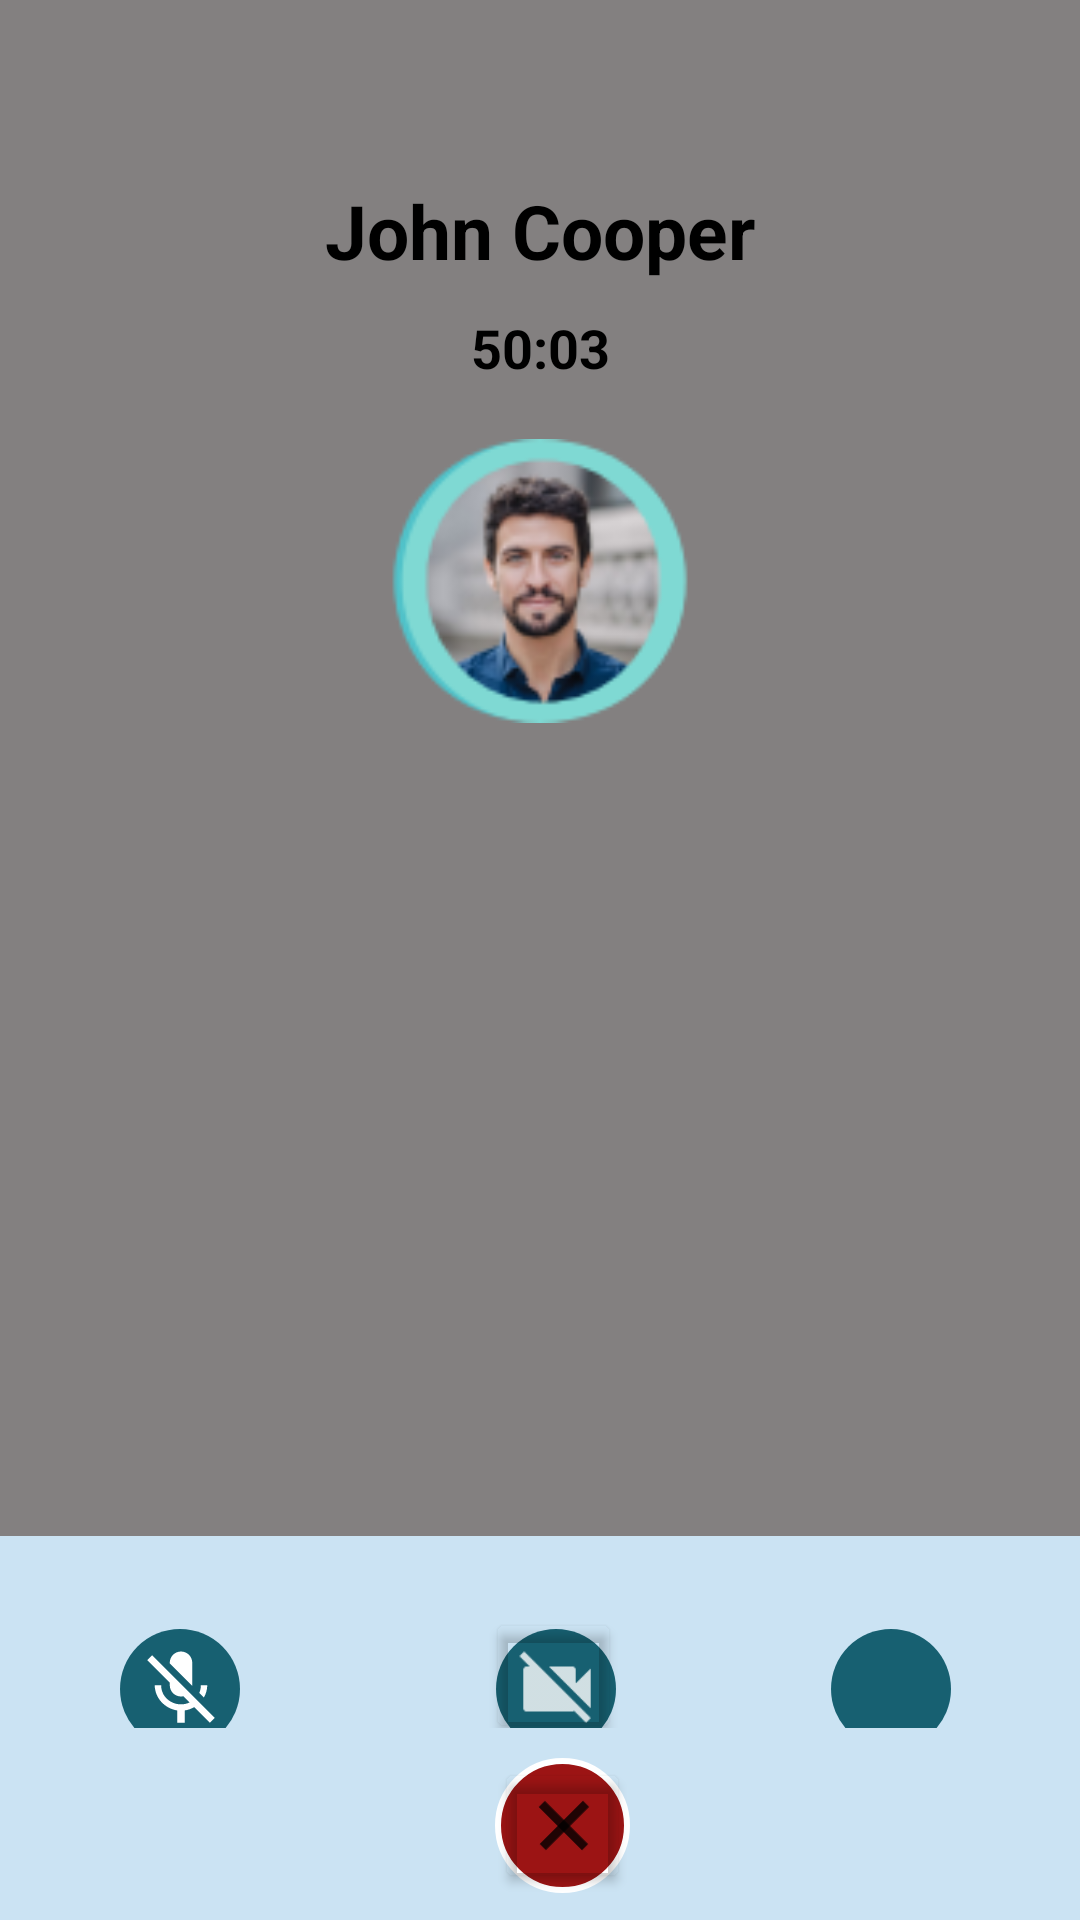

Point at icon controls on the screen. Image size 1080px x 1920px, points as [x,y].
headshot mentor: [540,581]
mic: [181,1687]
offvideo: [557,1686]
